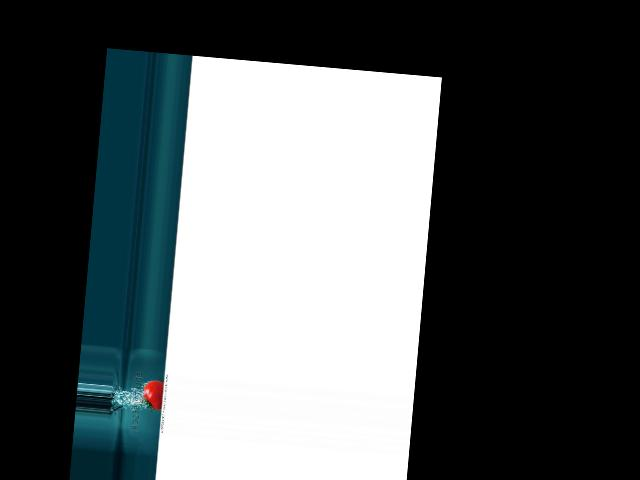tomato: (142, 380, 164, 411)
